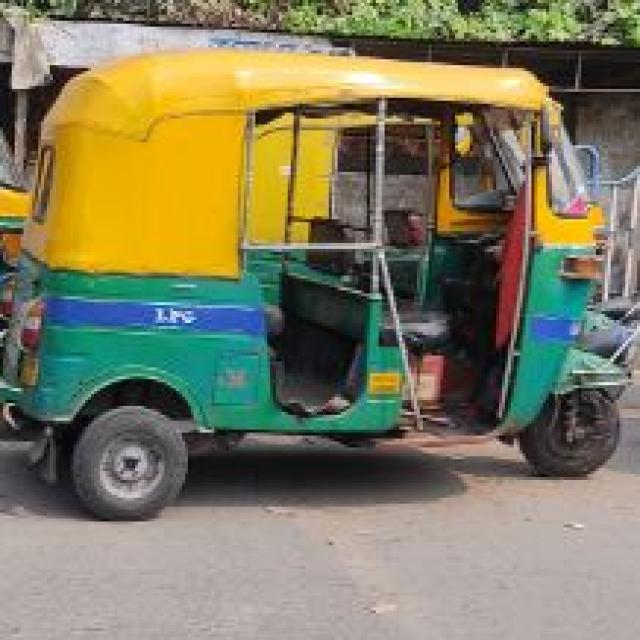autorickshaw: (18, 44, 637, 522)
